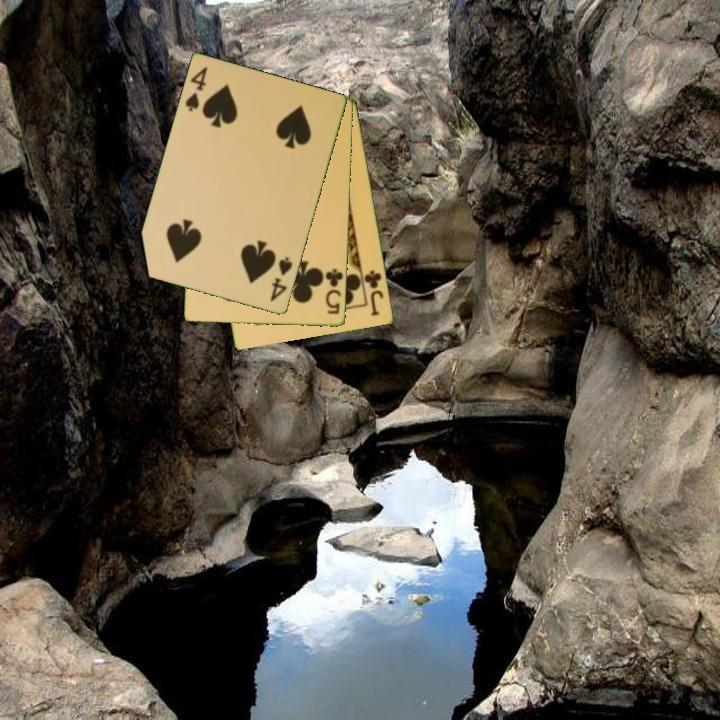4s: (182, 64, 211, 115), (267, 253, 295, 305)
5c: (322, 265, 346, 317)
Jc: (361, 267, 387, 319)
